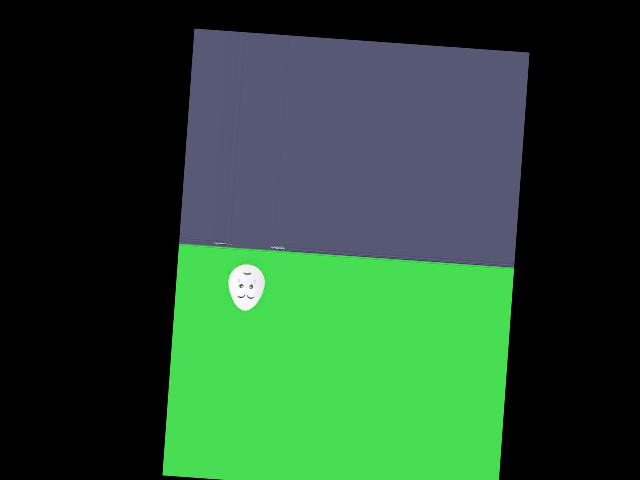egg: (226, 263, 265, 311)
